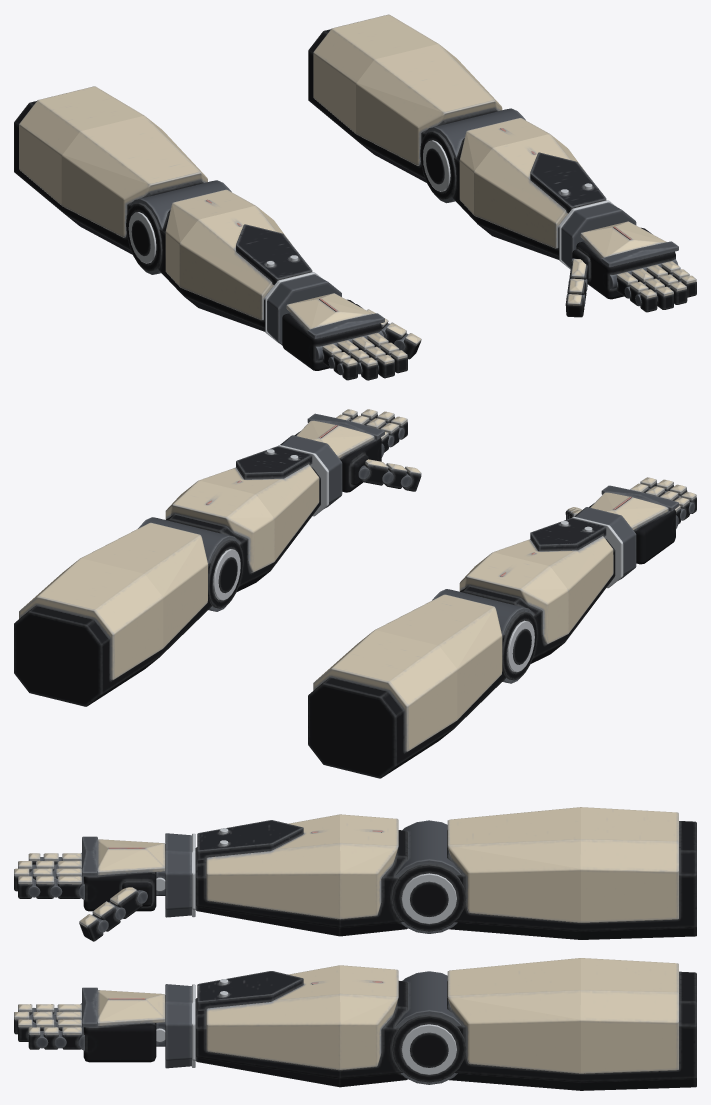
The model's file is arms.fbx.
The picture shows the model from 3 angles, top to bottom: view 1: azimuth 30°, elevation 25°; view 2: azimuth 150°, elevation 25°; view 3: azimuth 270°, elevation 25°; orthographic projection. The views are drawn at different scales.
Visible parts, largest first — view 1: L_upper_shell, R_upper_shell, L_fore_shell, R_fore_shell, R_fore_top, L_fore_top, R_fore_cuff, R_palm, L_fore_cuff, L_upper_body, R_upper_body, R_back_plate (+12 smaller); view 2: R_upper_shell, L_upper_shell, R_upper_body, L_upper_body, R_fore_shell, L_fore_shell, L_fore_top, R_fore_top, R_fore_body, L_fore_body, R_palm, L_back_plate (+14 smaller); view 3: L_upper_shell, R_upper_shell, R_fore_shell, L_fore_shell, R_upper_body, L_upper_body, R_fore_body, L_fore_body, L_palm, R_fore_top, L_fore_top, L_back_plate (+14 smaller).
Part boxes in pixels (x1=…): L_upper_shell: x1=313, y1=14, x2=502, y2=165; R_upper_shell: x1=19, y1=86, x2=207, y2=237; L_fore_shell: x1=459, y1=118, x2=585, y2=248; R_fore_shell: x1=165, y1=189, x2=291, y2=320; R_fore_top: x1=236, y1=224, x2=312, y2=285; L_fore_top: x1=530, y1=152, x2=606, y2=213; R_fore_cuff: x1=267, y1=274, x2=341, y2=345; R_palm: x1=282, y1=299, x2=381, y2=370; L_fore_cuff: x1=561, y1=202, x2=636, y2=268; L_upper_body: x1=308, y1=29, x2=497, y2=182; R_upper_body: x1=14, y1=101, x2=203, y2=254; R_back_plate: x1=286, y1=293, x2=372, y2=330; R_upper_shell: x1=313, y1=594, x2=502, y2=751; L_upper_shell: x1=19, y1=522, x2=207, y2=679; R_upper_body: x1=308, y1=635, x2=506, y2=778; L_upper_body: x1=14, y1=563, x2=211, y2=706; R_fore_shell: x1=459, y1=536, x2=613, y2=644; L_fore_shell: x1=165, y1=464, x2=319, y2=572; L_fore_top: x1=236, y1=446, x2=312, y2=479; R_fore_top: x1=530, y1=518, x2=606, y2=551; R_fore_body: x1=460, y1=539, x2=615, y2=663; L_fore_body: x1=166, y1=467, x2=320, y2=591; R_palm: x1=589, y1=503, x2=675, y2=564; L_back_plate: x1=296, y1=420, x2=374, y2=458; L_upper_shell: x1=447, y1=958, x2=678, y2=1073; R_upper_shell: x1=447, y1=807, x2=678, y2=922; R_fore_shell: x1=206, y1=814, x2=398, y2=919; L_fore_shell: x1=206, y1=965, x2=398, y2=1070; R_upper_body: x1=447, y1=821, x2=696, y2=939; L_upper_body: x1=447, y1=971, x2=696, y2=1090; R_fore_body: x1=195, y1=830, x2=407, y2=936; L_fore_body: x1=195, y1=981, x2=407, y2=1087; L_palm: x1=83, y1=1023, x2=156, y2=1062; R_fore_top: x1=197, y1=820, x2=303, y2=860; L_fore_top: x1=197, y1=971, x2=303, y2=1010; L_back_plate: x1=97, y1=990, x2=165, y2=1026.
Size of the model in its own units: 0.538 by 0.1242 by 0.7654.
6 materials, 6 textured.
